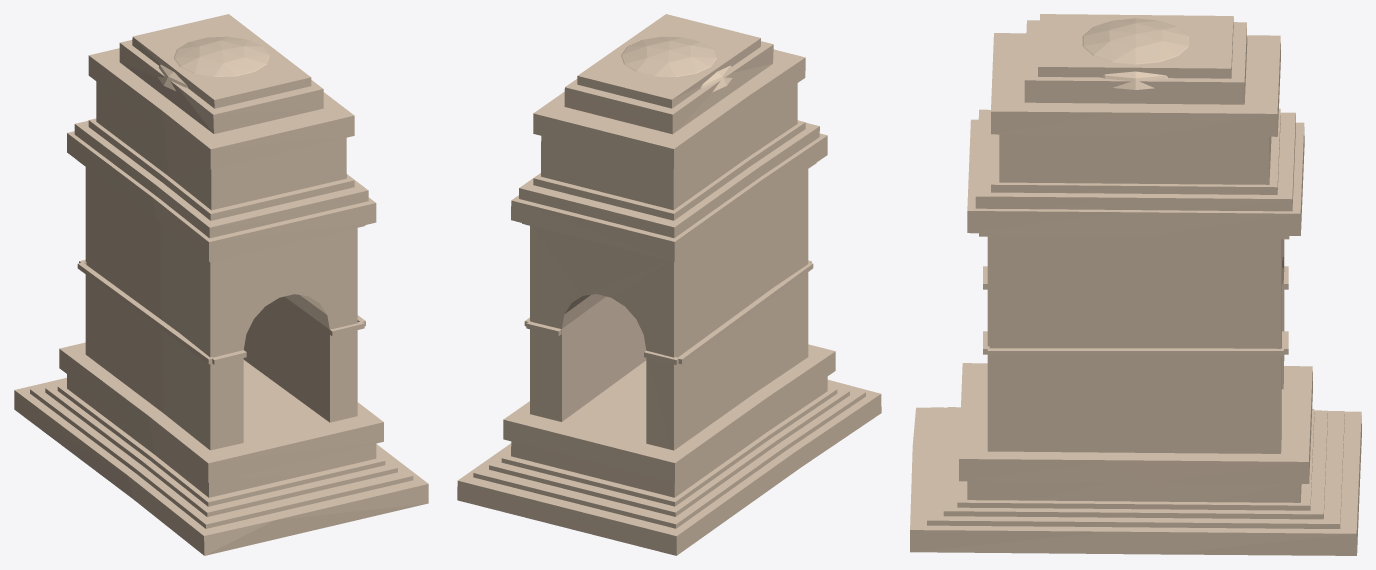
File: india-gate_lod1.glb
3 renders of one model, left to right at view 1: azimuth 30°, elevation 25°; view 2: azimuth 150°, elevation 25°; view 3: azimuth 270°, elevation 25°, orthographic. The views are drawn at different scales.
Parts seen in each view (by area): view 1: india-gate; view 2: india-gate; view 3: india-gate.
Boxes of the visible parts, box(x1,y1,x2,y2) form: india-gate: box(14, 14, 428, 555); india-gate: box(457, 14, 881, 555); india-gate: box(910, 14, 1361, 555).
Bounding box in the file's own units: 24.39 × 41.38 × 36.91.
